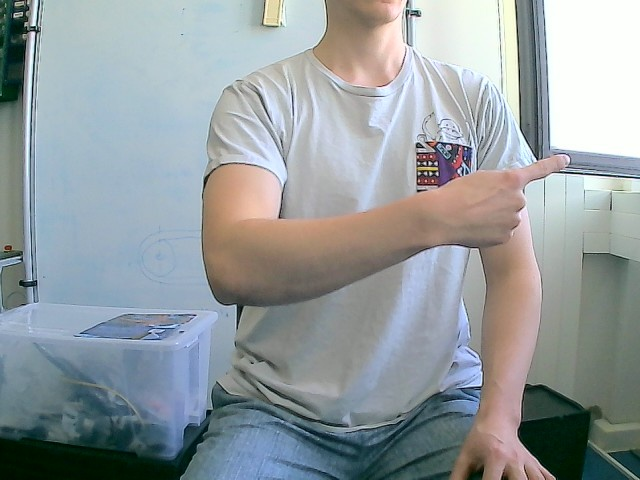left: (436, 151, 572, 250)
